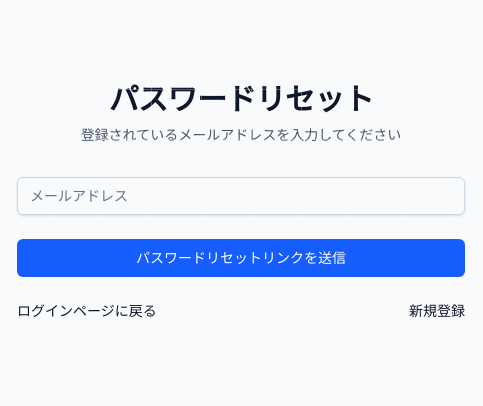
ForgotPasswordPage › form submission › submits email and shows success message
The width and height of the screenshot is (483, 406).
Step 1. Type "test@example.com" into the field with placeholder "メールアドレス" → (241, 196), box 17,177 -> 465,215
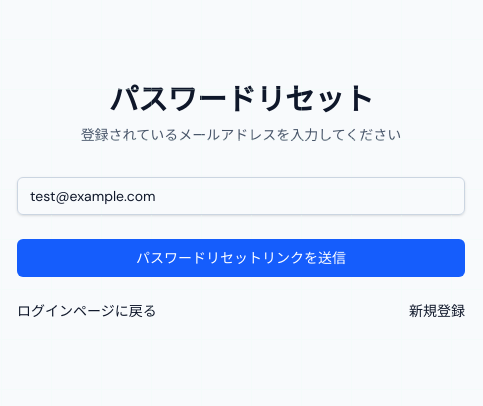
Step 2. Click the button "パスワードリセットリンクを送信" → (241, 258), box 17,239 -> 465,277
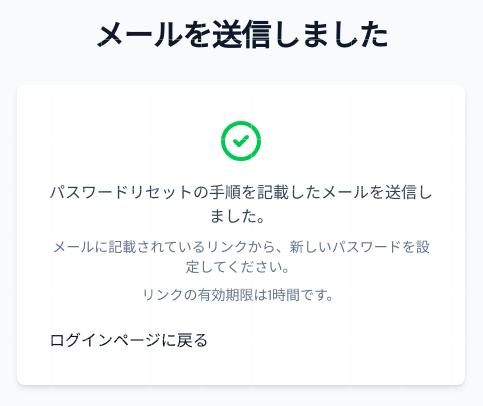
Now the heading "メールを送信しました" is shown, box 94,16 -> 388,54
